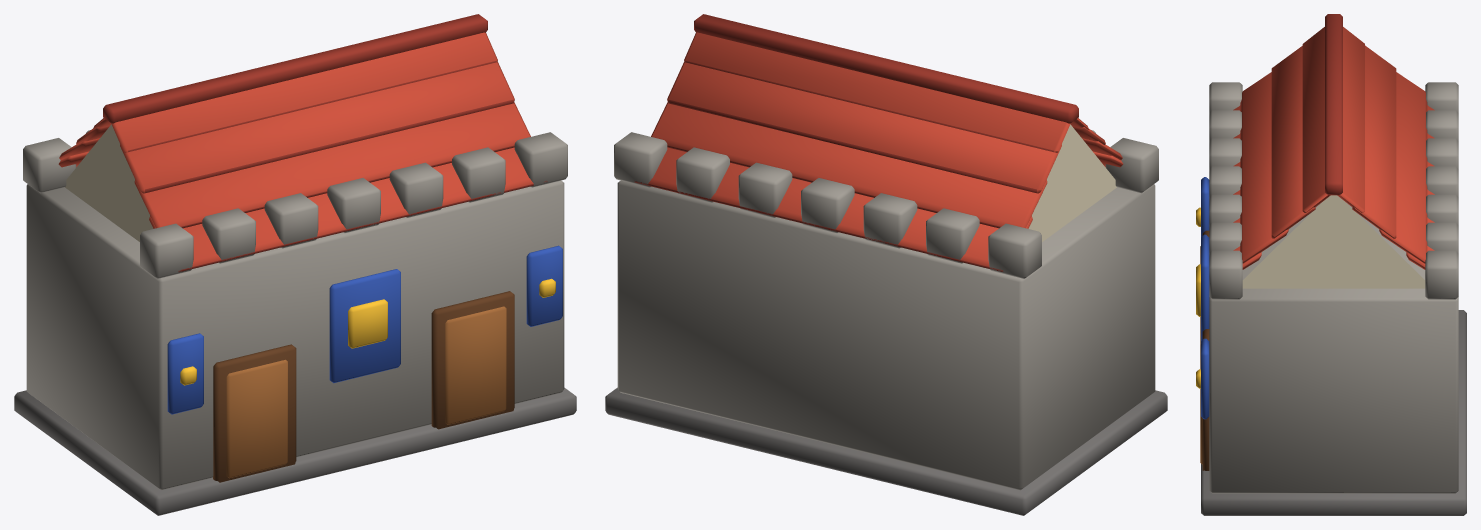
File: B_MedBarracks.fbx
3 renders of one model, left to right at view 1: azimuth 30°, elevation 25°; view 2: azimuth 150°, elevation 25°; view 3: azimuth 270°, elevation 25°, orthographic. The views are drawn at different scales.
Visible parts, largest first — view 1: M_Barracks; view 2: M_Barracks; view 3: M_Barracks.
Part boxes in pixels (x1=…): M_Barracks: x1=14, y1=14, x2=576, y2=515; M_Barracks: x1=605, y1=14, x2=1167, y2=515; M_Barracks: x1=1196, y1=14, x2=1466, y2=515.
Bounding box in the file's own units: 5.4 × 4.31 × 3.26.
1 material, 1 textured.
